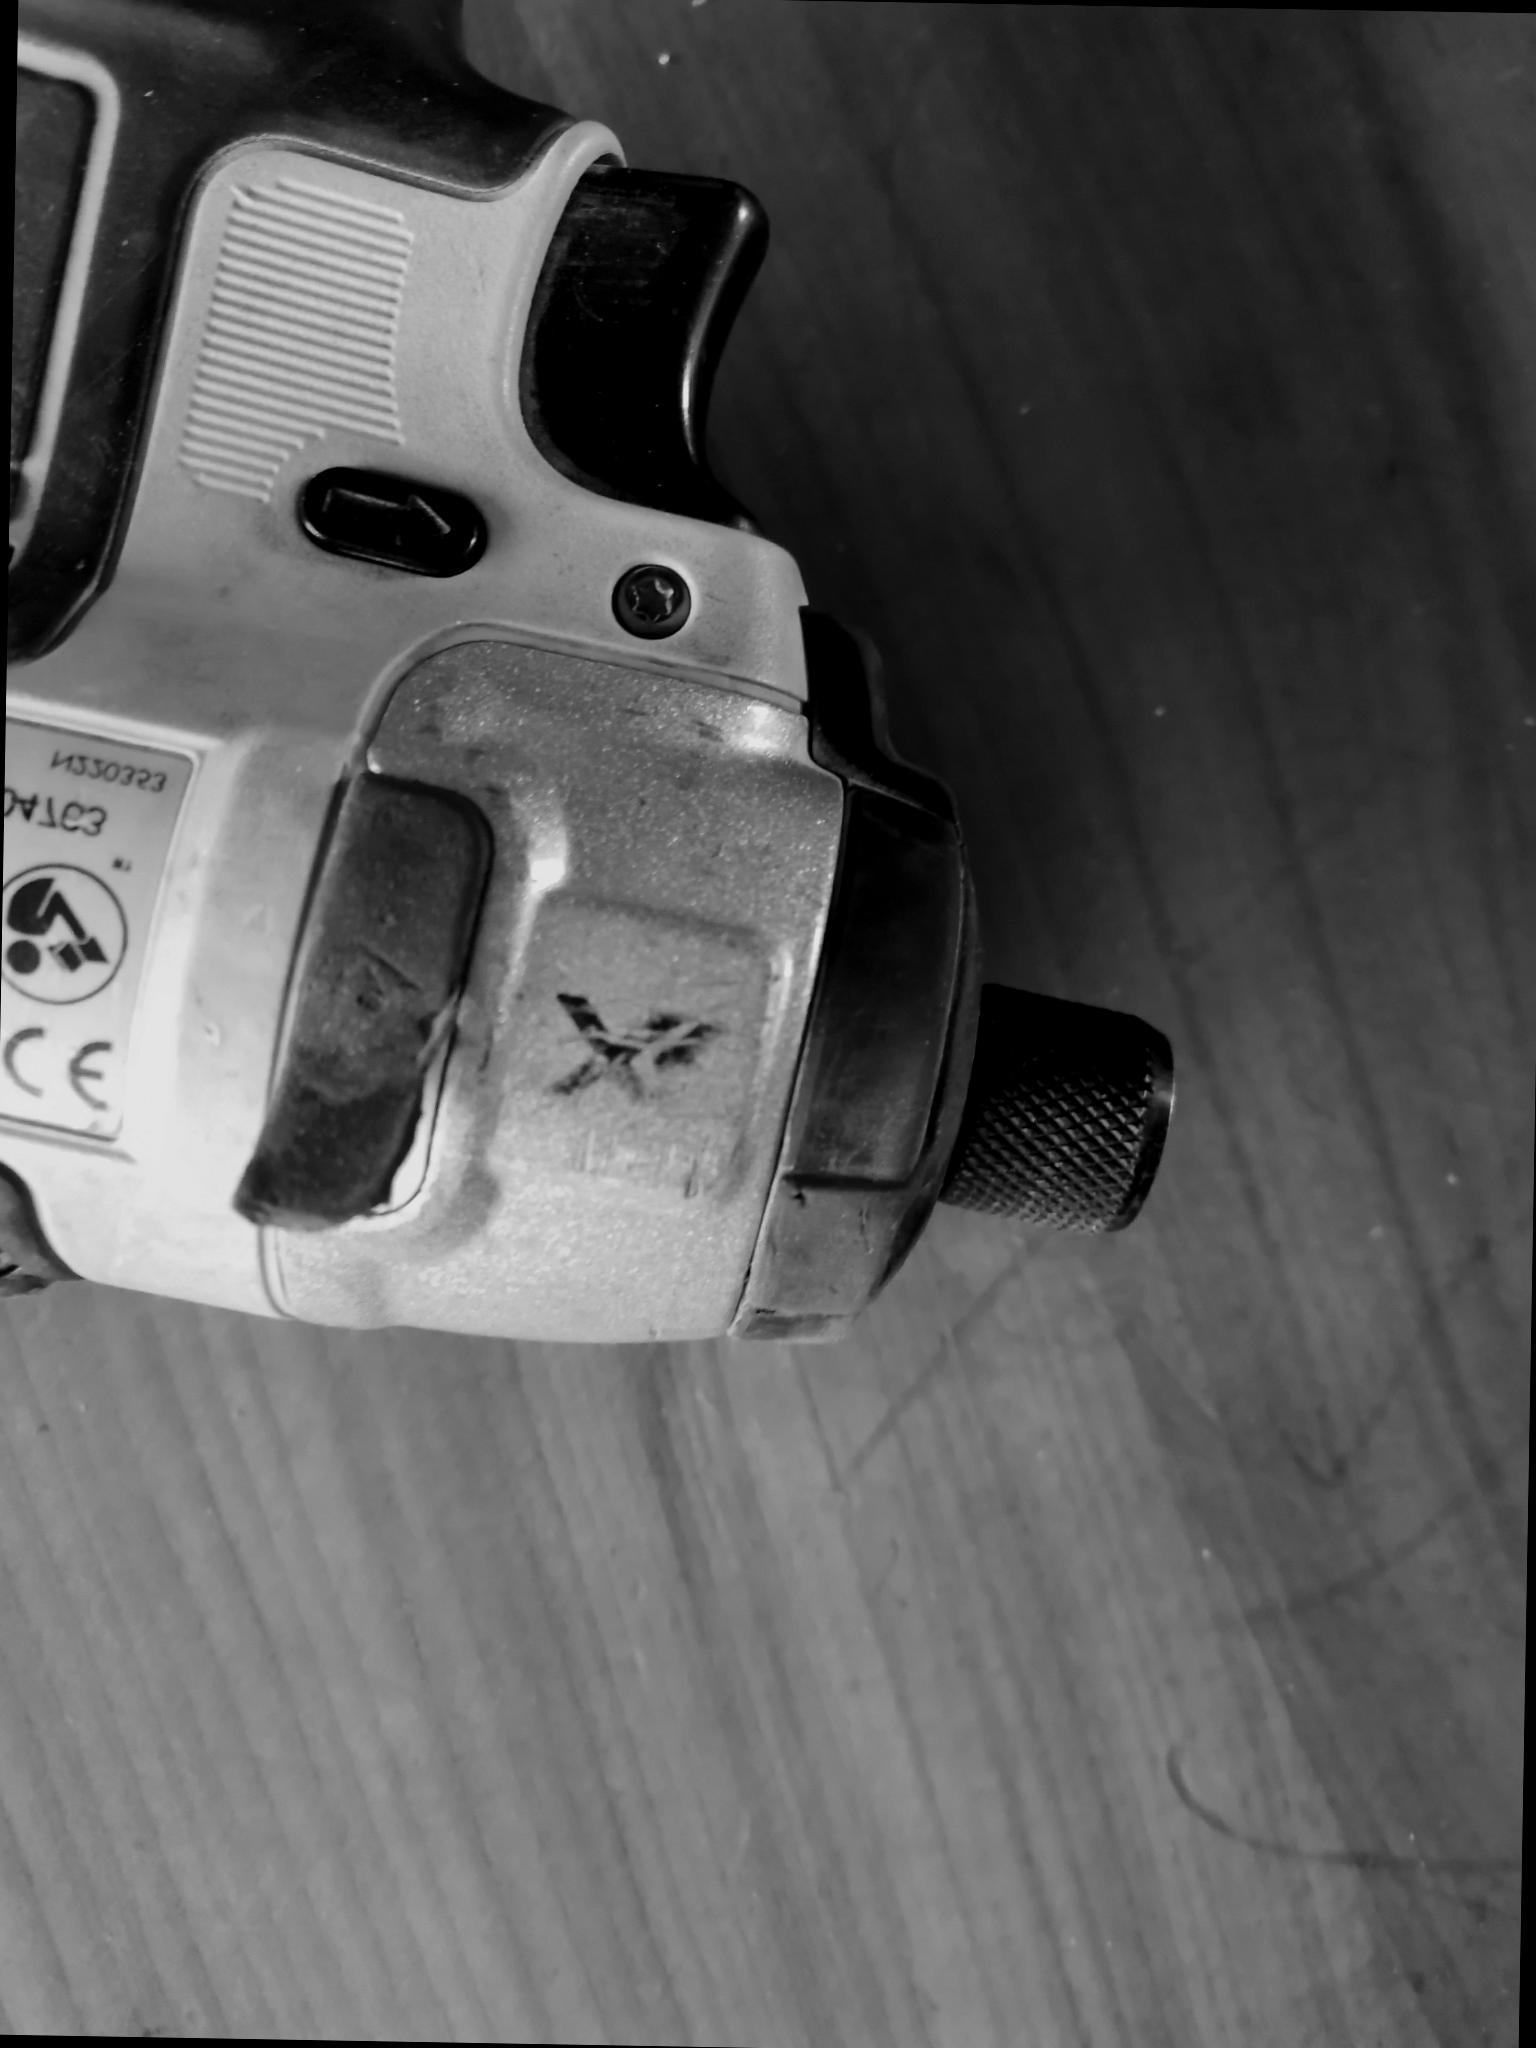torx: (597, 550, 695, 640)
